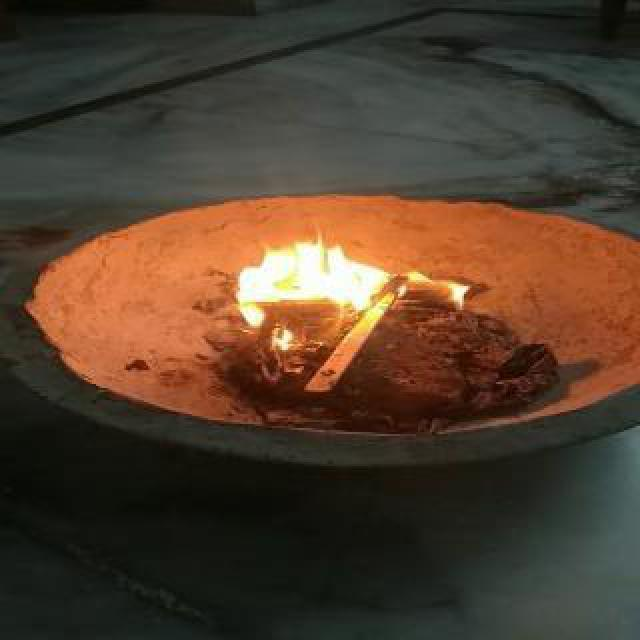Fire: (194, 194, 474, 348)
